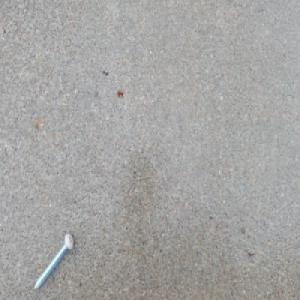Nail: (33, 230, 75, 291)
